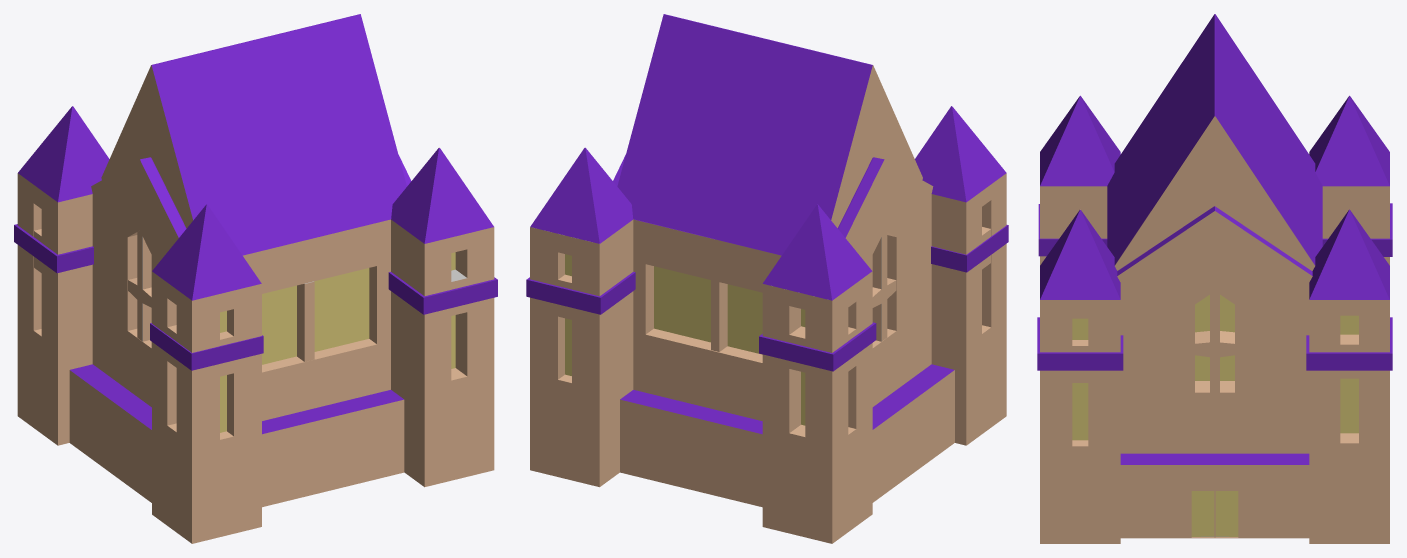
The model's file is Academy.fbx.
The picture shows the model from 3 angles, left to right: view 1: azimuth 30°, elevation 25°; view 2: azimuth 150°, elevation 25°; view 3: azimuth 270°, elevation 25°; orthographic projection.
Visible parts, largest first — view 1: Cube.003; view 2: Cube.003; view 3: Cube.003.
Boxes of the visible parts, box(x1,y1,x2,y2) form: Cube.003: box(14, 14, 497, 543); Cube.003: box(526, 14, 1008, 543); Cube.003: box(1037, 14, 1392, 543).
Size of the model in its own units: 132 by 166 by 132.
